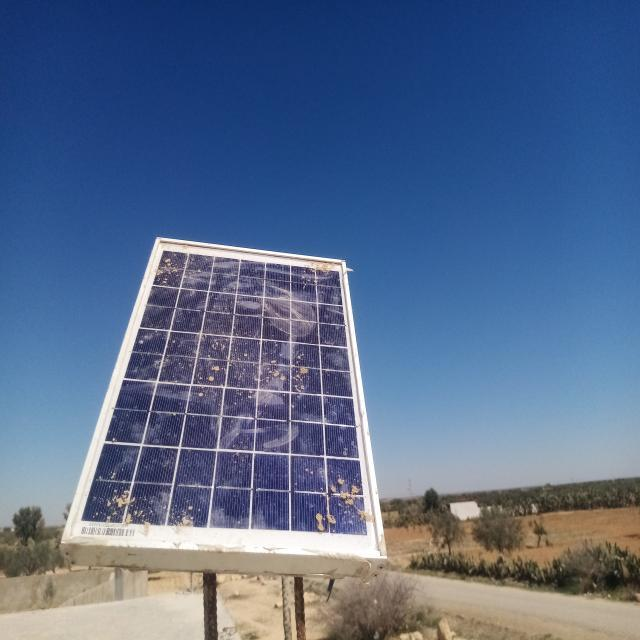faulty: (61, 237, 387, 559)
